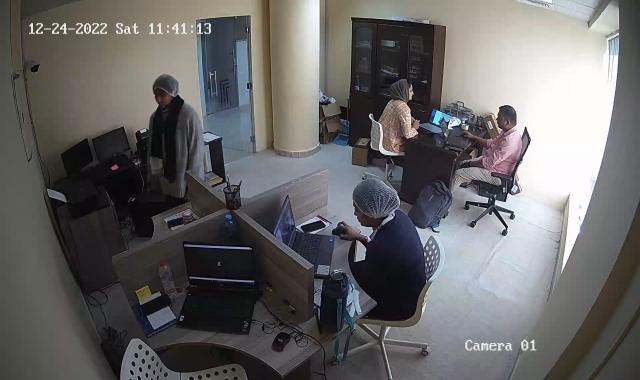hairnet: (352, 178, 401, 229), (151, 72, 178, 108)
no_hairnet: (496, 103, 519, 132), (390, 76, 413, 104)
